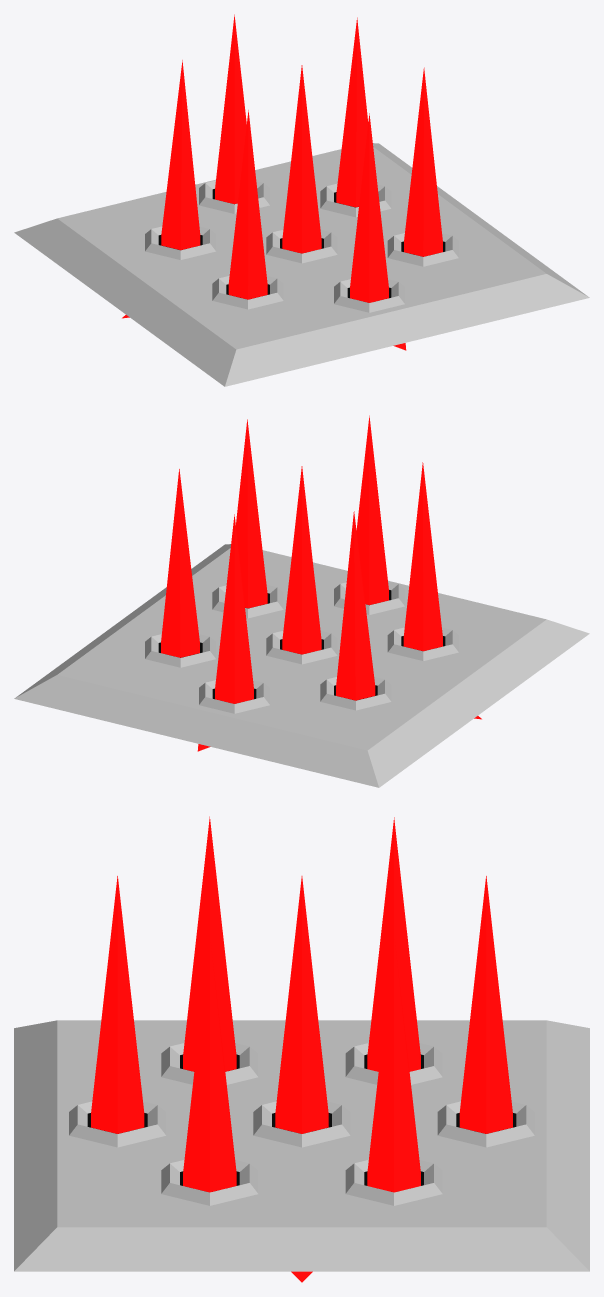
The model's file is trap-blade.glb.
3 views of the same model, one above another, from view 1: azimuth 30°, elevation 25°; view 2: azimuth 150°, elevation 25°; view 3: azimuth 270°, elevation 25° (orthographic). The views are drawn at different scales.
Visible parts, largest first — view 1: Base, Base.001; view 2: Base, Base.001; view 3: Base, Base.001.
Boxes of the visible parts, x1,y1,x2,y2 form: Base: (14, 143, 589, 386); Base.001: (161, 14, 442, 302); Base: (14, 544, 589, 787); Base.001: (161, 415, 442, 703); Base: (14, 1020, 589, 1271); Base.001: (91, 816, 512, 1192).
Size of the model in its own units: 2 by 1.13 by 2.
